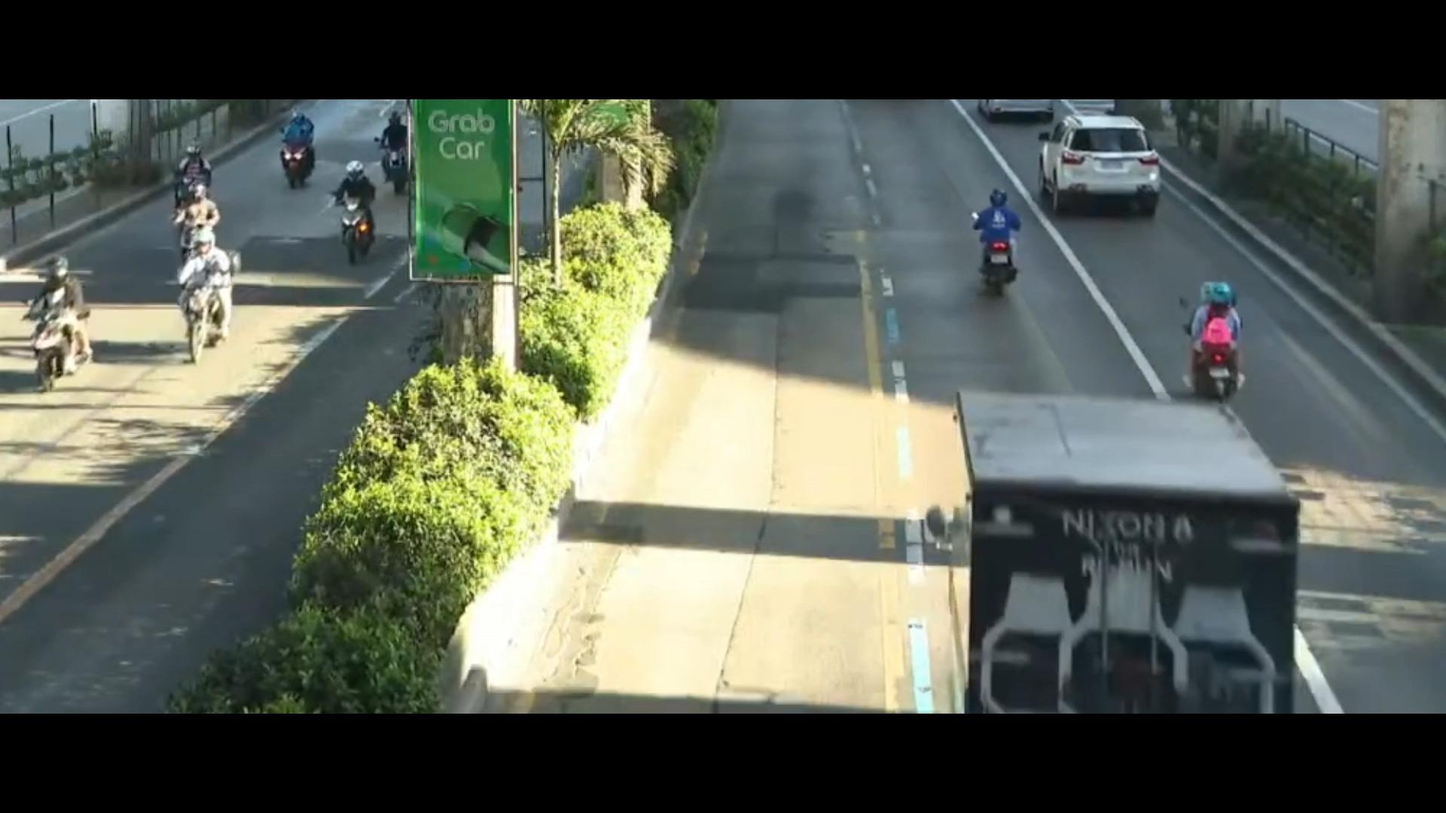Motorcycle: (145, 231, 252, 378), (29, 236, 113, 422), (1168, 277, 1267, 414), (951, 181, 1042, 306), (320, 151, 390, 280), (151, 189, 244, 272), (258, 111, 332, 197), (171, 144, 219, 222)
SUV: (1019, 106, 1180, 232)
Truck: (897, 352, 1341, 717)
